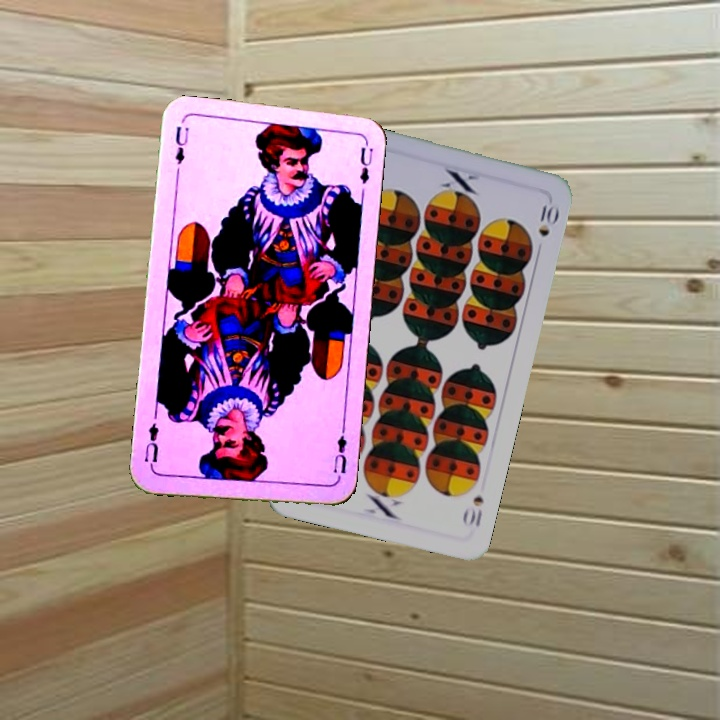EU: (329, 425, 349, 484), (171, 122, 191, 167)
S10: (459, 492, 487, 530)
